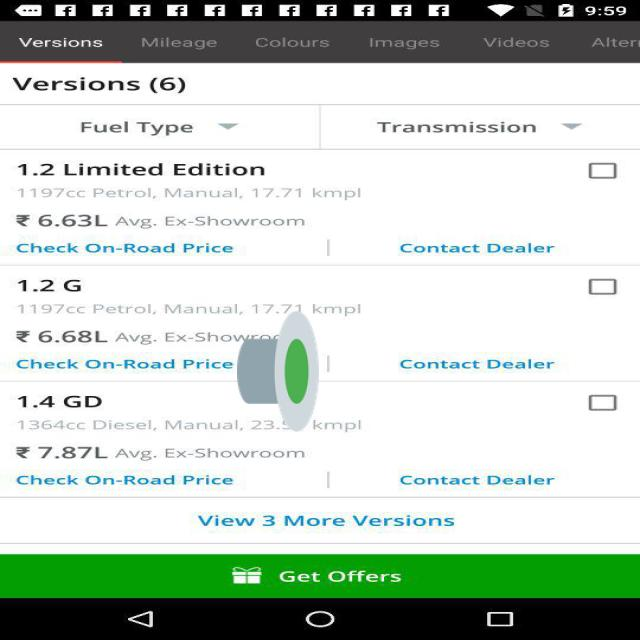social proof: (237, 260, 319, 483)
